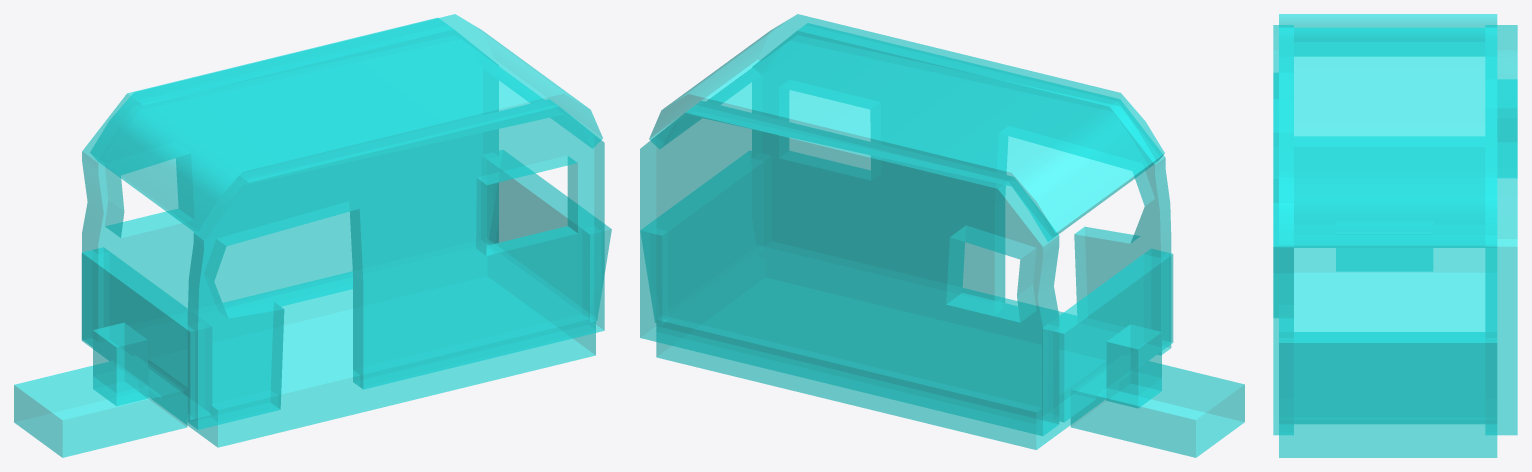
File: SM_Bld_Shack_06_Collision.fbx
3 views of the same model, side by side, from view 1: azimuth 30°, elevation 25°; view 2: azimuth 150°, elevation 25°; view 3: azimuth 270°, elevation 25° (orthographic).
Visible parts, largest first — view 1: SM_Bld_Shack_06_Collision; view 2: SM_Bld_Shack_06_Collision; view 3: SM_Bld_Shack_06_Collision.
Part boxes in pixels (x1,y1,x2,y2): SM_Bld_Shack_06_Collision: (14,14,611,457); SM_Bld_Shack_06_Collision: (640,14,1244,457); SM_Bld_Shack_06_Collision: (1273,14,1517,457).
Size of the model in its own units: 665 by 329 by 269.
